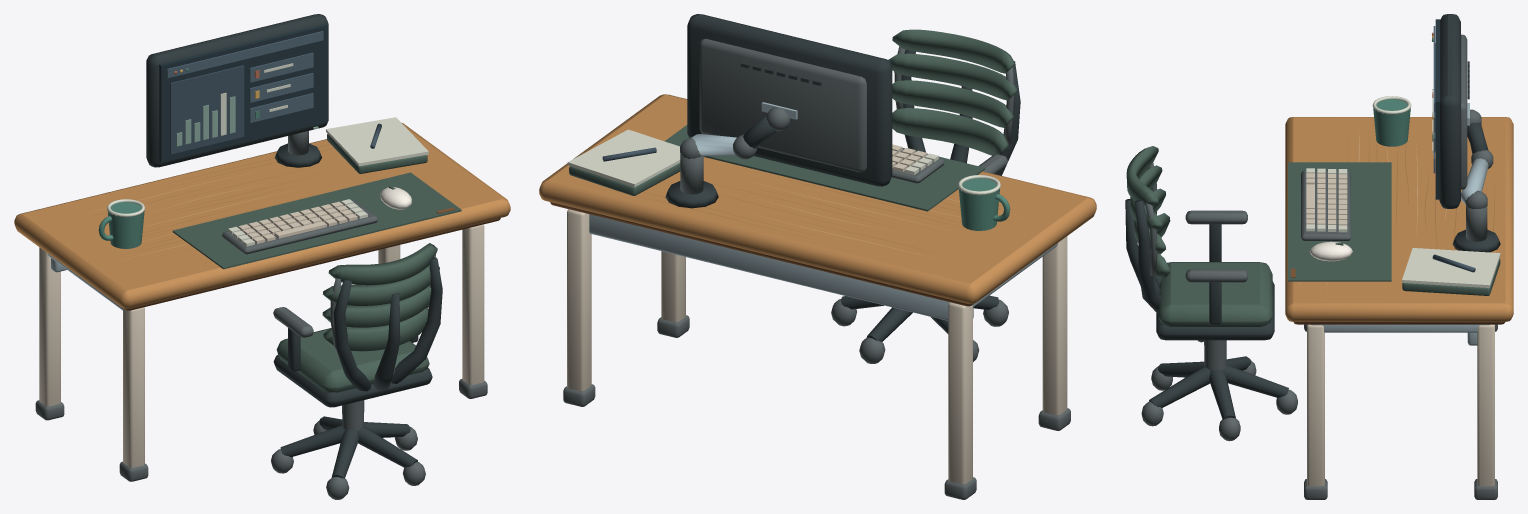
File: station.glb
The picture shows the model from 3 angles, left to right: view 1: azimuth 30°, elevation 25°; view 2: azimuth 150°, elevation 25°; view 3: azimuth 270°, elevation 25°; orthographic projection. The views are drawn at different scales.
Visible parts, largest first — view 1: Studio, Chair; view 2: Studio, Chair; view 3: Studio, Chair.
Part boxes in pixels (box(x1,y1,x2,y2)): Studio: box(14, 14, 510, 481); Chair: box(271, 243, 442, 499); Studio: box(539, 14, 1096, 499); Chair: box(831, 29, 1020, 363); Studio: box(1285, 14, 1513, 499); Chair: box(1125, 146, 1297, 441).
Bounding box in the file's own units: 2.16 × 1.87 × 1.84.
